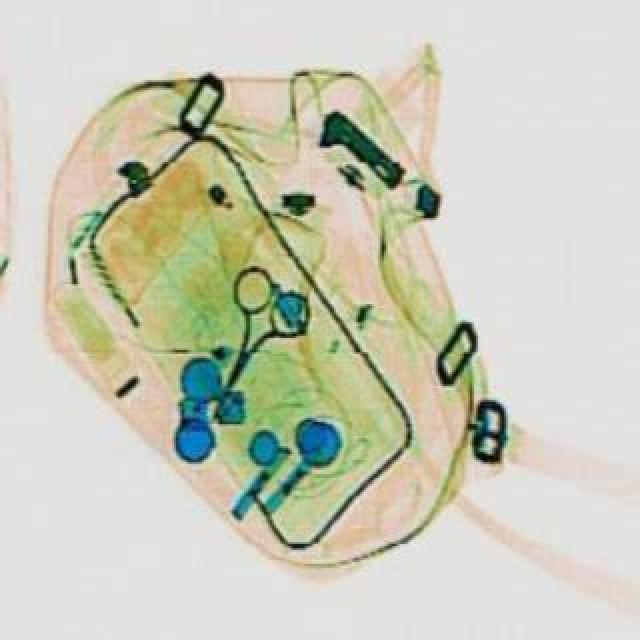pliers: (174, 256, 328, 432)
